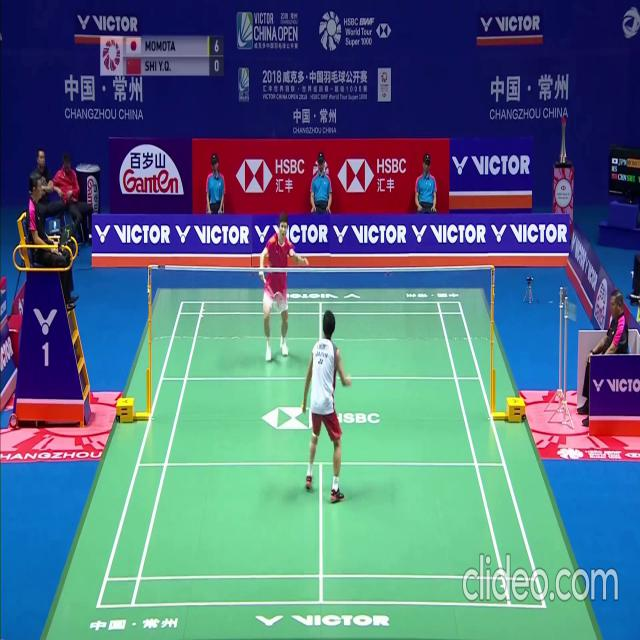Shuttlecock: (289, 248, 293, 256)
